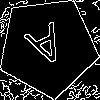A: (23, 22, 72, 77)
